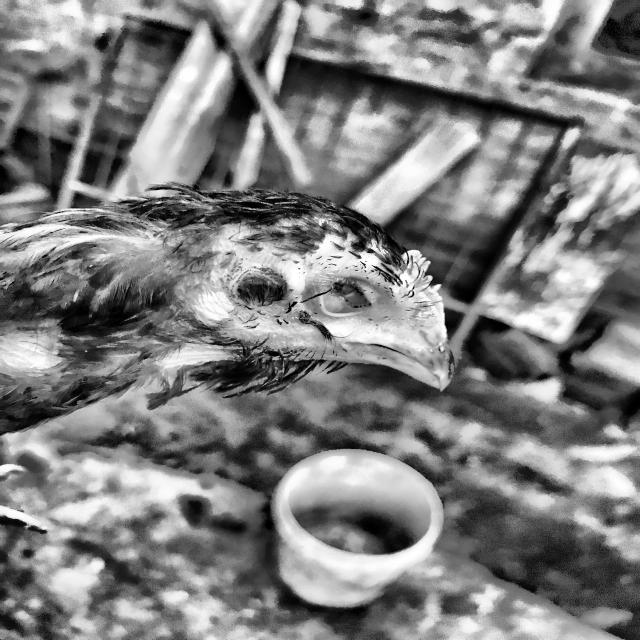Coryza: (102, 184, 489, 425)
